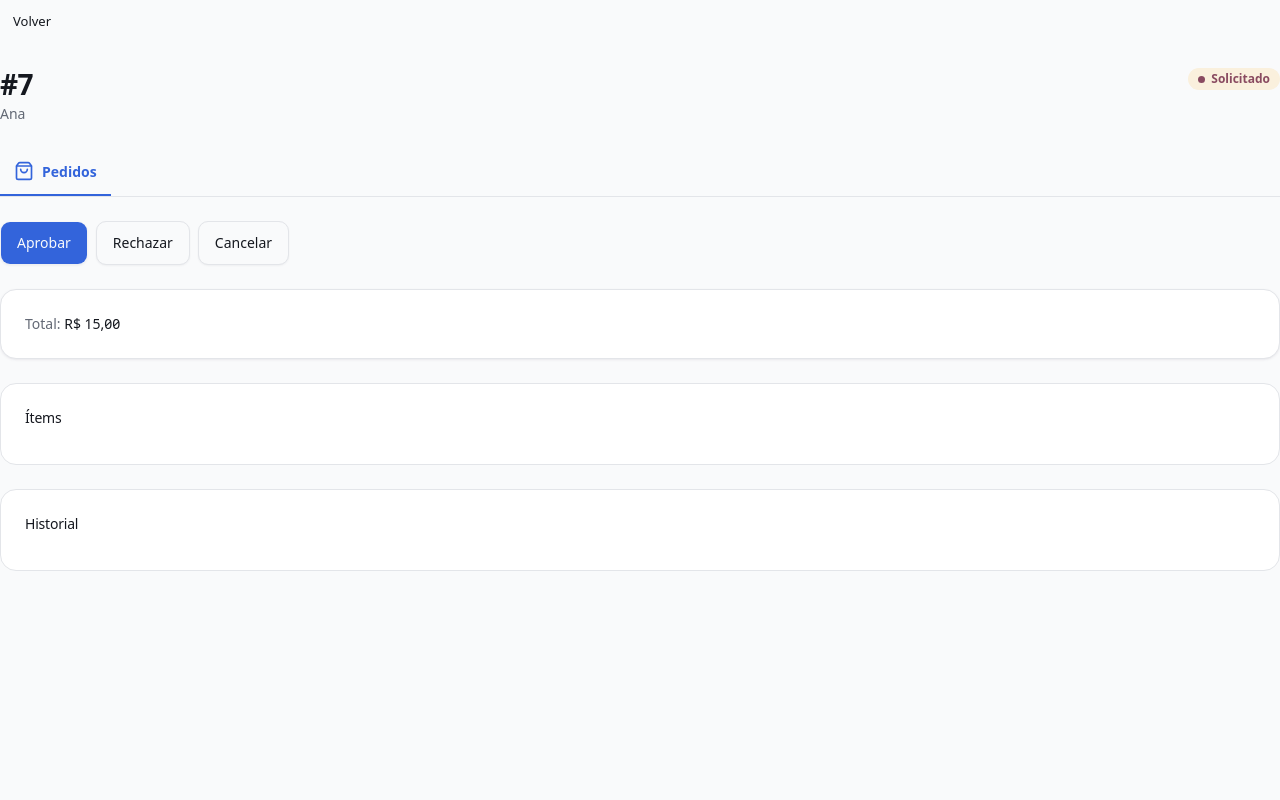
staff order detail › localizes invalid reasons in es
Step 1. Click the button "Rechazar" → (143, 243), box 96,221 -> 190,265
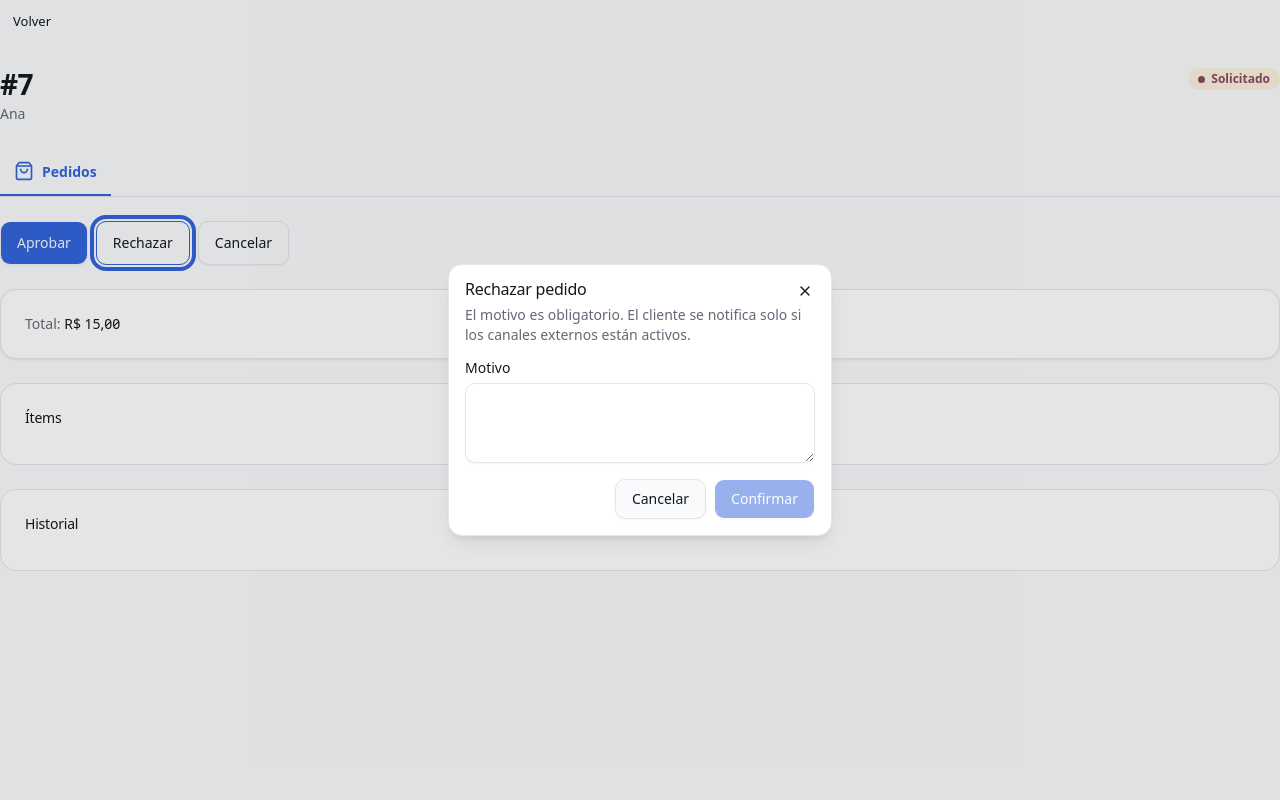
Step 2. Submit the form, box 465,361 -> 815,519
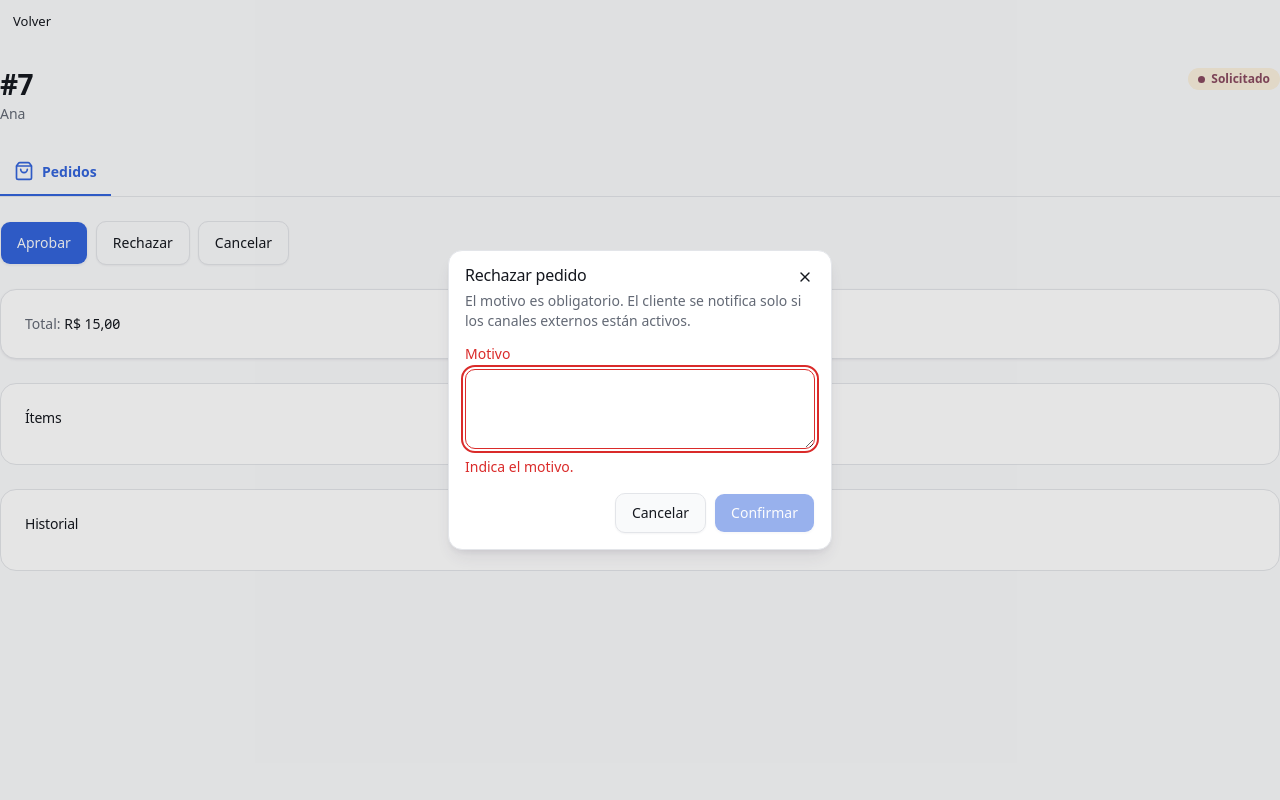
Expected: the text "Indica el motivo." is shown, 465,457 -> 574,476
